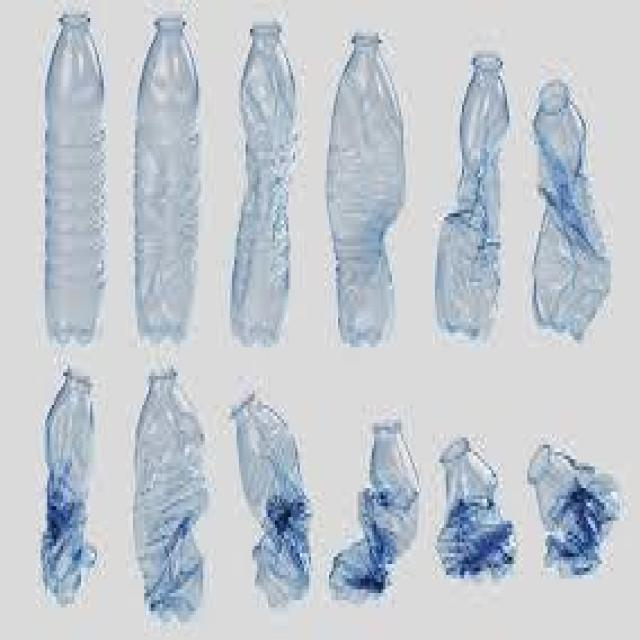defected: (324, 23, 410, 355), (224, 16, 306, 358), (427, 41, 515, 358), (522, 62, 612, 362), (124, 362, 218, 634), (130, 6, 203, 352), (223, 381, 316, 610), (328, 398, 424, 612), (34, 368, 104, 606), (523, 423, 617, 588), (423, 420, 513, 590)
good: (36, 8, 115, 348)
